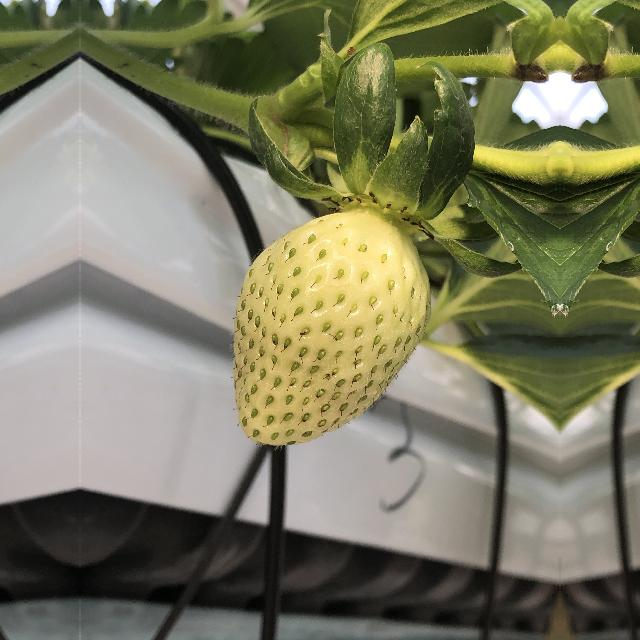Health_25: (221, 198, 443, 452)
